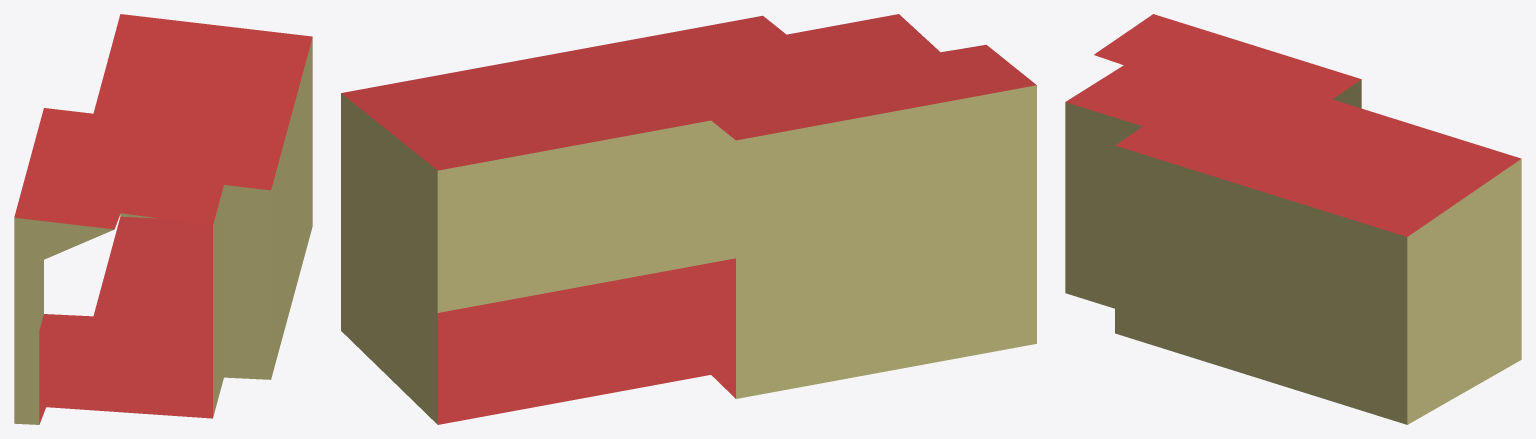
The picture shows the model from 3 angles, left to right: view 1: azimuth 30°, elevation 25°; view 2: azimuth 150°, elevation 25°; view 3: azimuth 270°, elevation 25°; orthographic projection. The views are drawn at different scales.
Parts seen in each view (by area): view 1: group_3, group_5, group_4; view 2: group_4, group_3, group_5; view 3: group_4, group_3.
Boxes of the visible parts, x1=… form: group_3: x1=14, y1=14, x2=312, y2=229; group_5: x1=39, y1=216, x2=212, y2=424; group_4: x1=14, y1=38, x2=312, y2=424; group_4: x1=341, y1=85, x2=1036, y2=424; group_3: x1=341, y1=14, x2=1036, y2=170; group_5: x1=437, y1=258, x2=735, y2=424; group_4: x1=1065, y1=79, x2=1521, y2=424; group_3: x1=1066, y1=14, x2=1521, y2=236.
Bounding box in the file's own units: 15.25 × 14.24 × 7.04.
